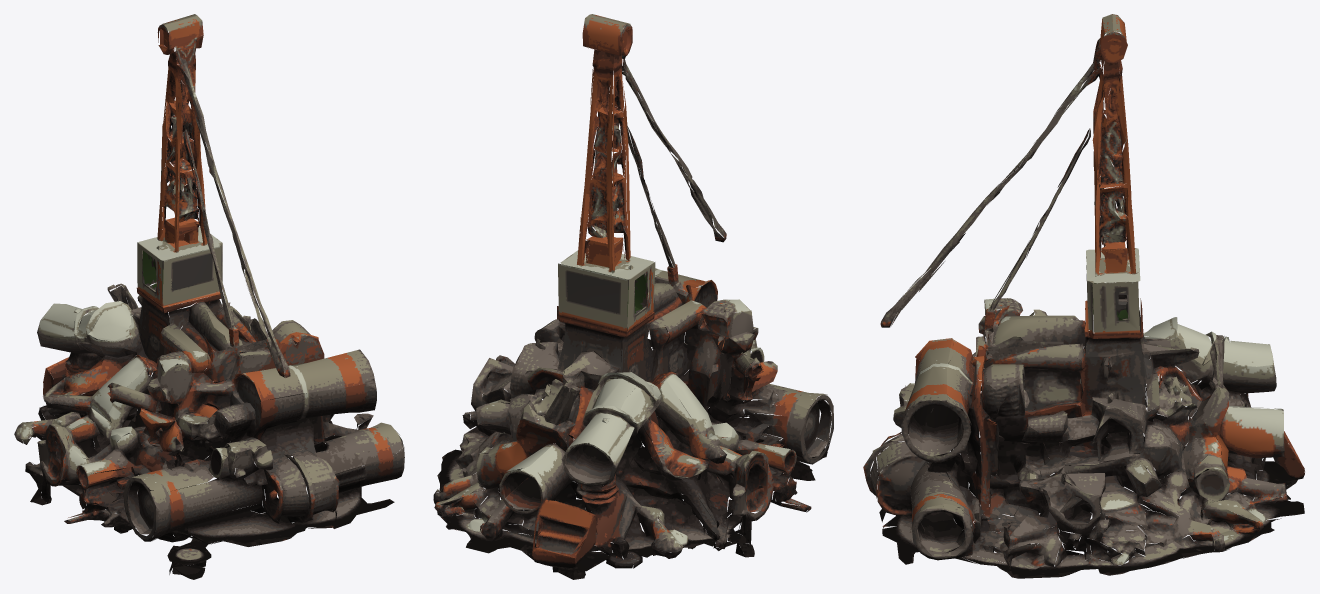
The model's file is scrapyard.glb.
3 views of the same model, side by side, from view 1: azimuth 30°, elevation 25°; view 2: azimuth 150°, elevation 25°; view 3: azimuth 270°, elevation 25° (orthographic). The views are drawn at different scales.
Parts seen in each view (by area): view 1: scrapyard; view 2: scrapyard; view 3: scrapyard.
Boxes of the visible parts, bbox=[...] form: scrapyard: bbox=[14, 14, 404, 579]; scrapyard: bbox=[433, 14, 833, 579]; scrapyard: bbox=[863, 14, 1304, 578].
Bounding box in the file's own units: 2.24 × 3.36 × 2.61.
1 material, 1 textured.
